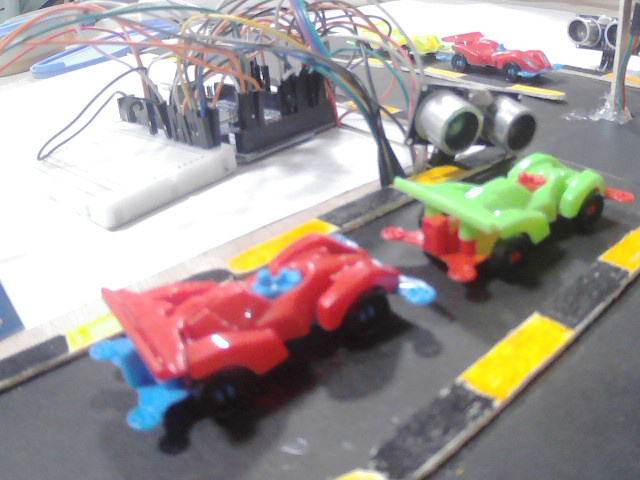car: (84, 226, 439, 421), (375, 149, 640, 283), (445, 26, 546, 84), (357, 18, 449, 68)
uno_breadboard: (108, 56, 350, 164), (420, 76, 522, 153), (573, 8, 640, 57)
